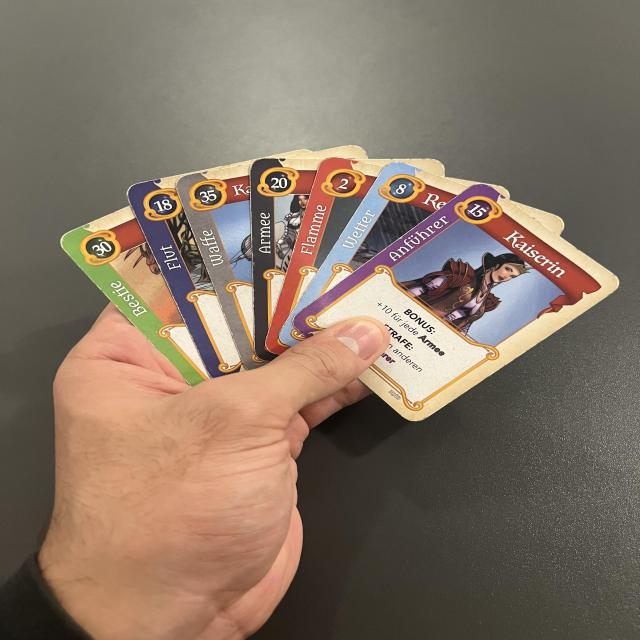Candle: (266, 155, 385, 340)
Dragon: (55, 207, 211, 388)
Empress: (288, 180, 627, 428)
Knights: (251, 157, 322, 354)
Rainstorm: (287, 157, 470, 317)
Swamp: (121, 176, 244, 379)
War Dirigable: (170, 164, 257, 370)
